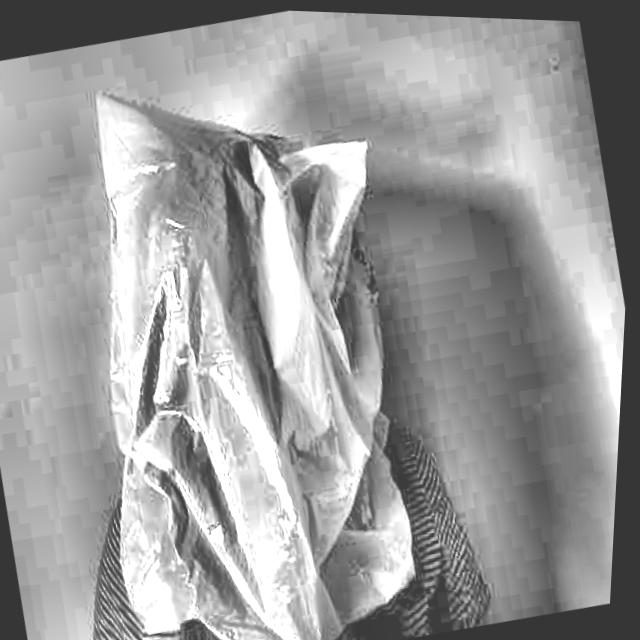Plastic: (27, 19, 484, 640)
